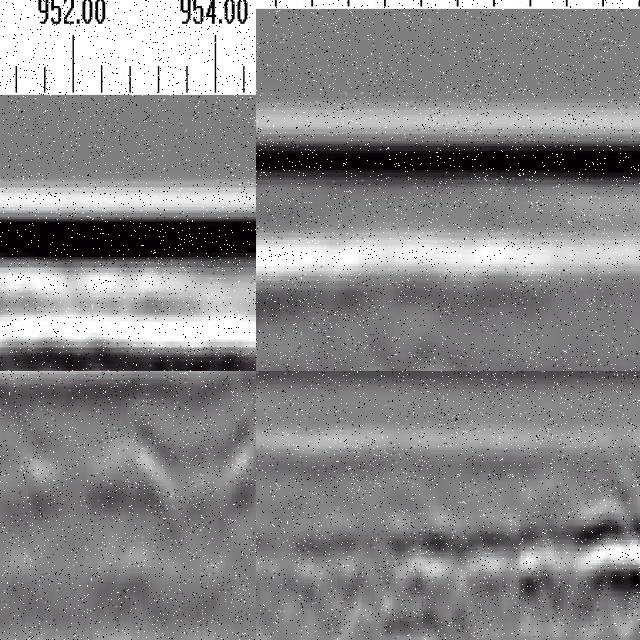loose: (263, 506, 640, 640), (89, 380, 257, 532)
